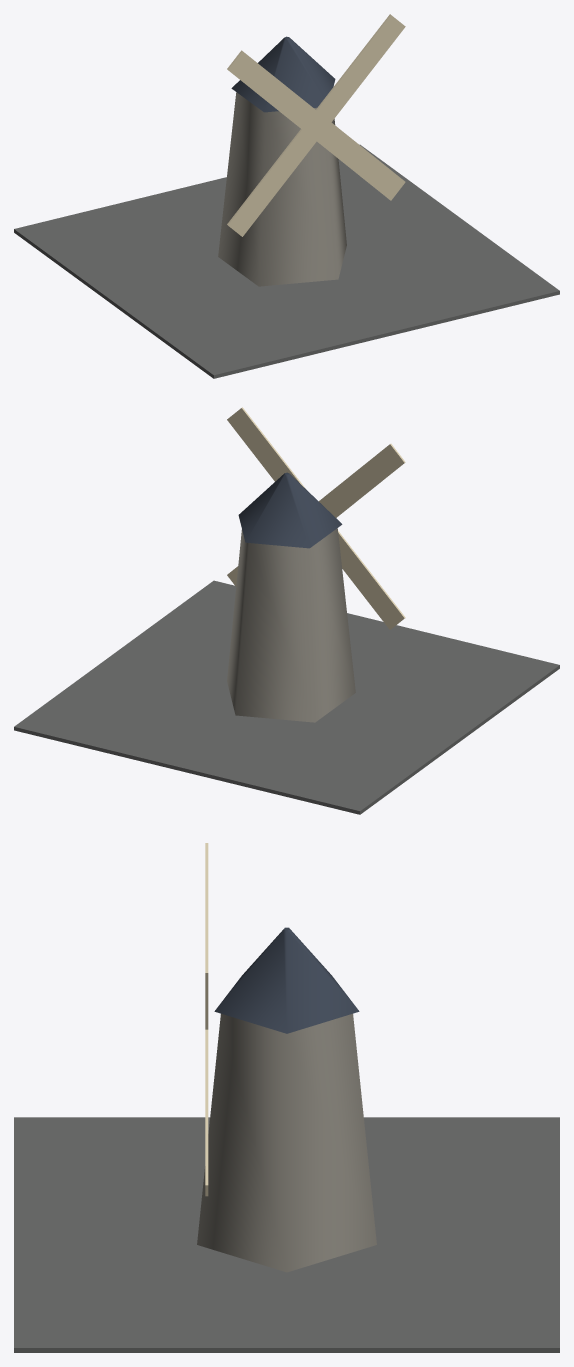
The model's file is bld_special_power_plant_a03_lod2.glb.
3 views of the same model, one above another, from view 1: azimuth 30°, elevation 25°; view 2: azimuth 150°, elevation 25°; view 3: azimuth 270°, elevation 25° (orthographic). The views are drawn at different scales.
Visible parts, largest first — view 1: body, rotor; view 2: body, rotor; view 3: body, rotor.
Part boxes in pixels (<box>): body: <box>14,36,559,378</box>; rotor: <box>227,14,405,236</box>; body: <box>14,472,559,814</box>; rotor: <box>227,407,405,629</box>; body: <box>14,927,559,1352</box>; rotor: <box>205,843,208,1196</box>.
Size of the model in its own units: 15 by 10.45 by 15.
